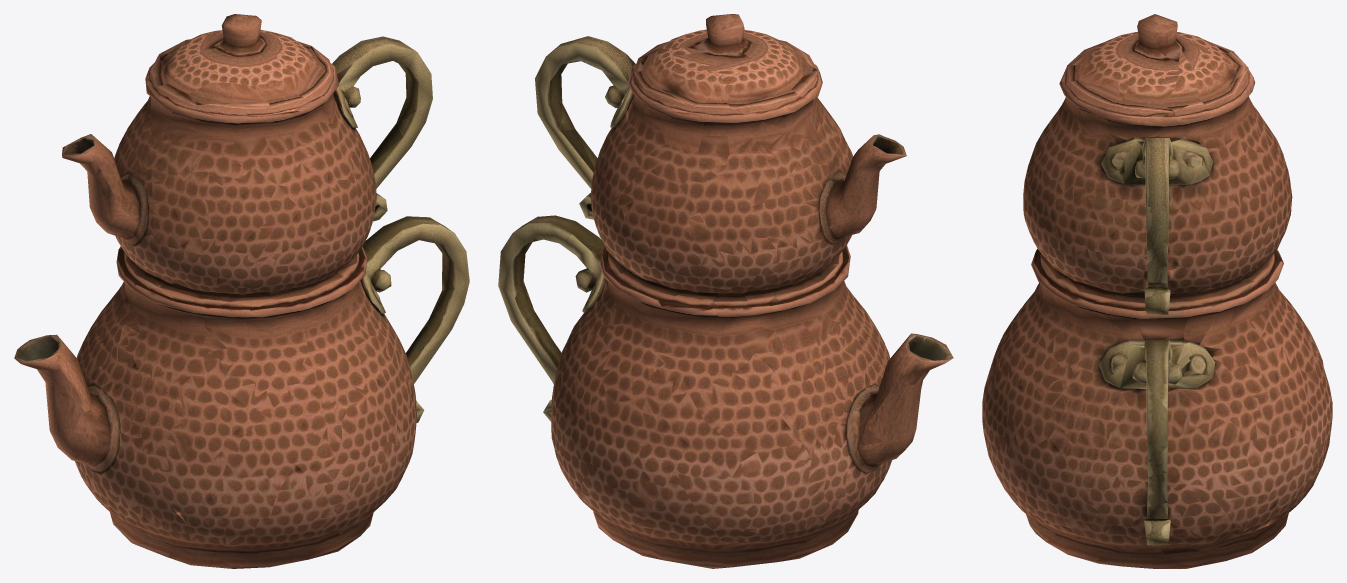
The model's file is teapot.glb.
The picture shows the model from 3 angles, left to right: view 1: azimuth 30°, elevation 25°; view 2: azimuth 150°, elevation 25°; view 3: azimuth 270°, elevation 25°; orthographic projection.
Visible parts, largest first — view 1: Mesh_0; view 2: Mesh_0; view 3: Mesh_0.
Part boxes in pixels (x1=…): Mesh_0: x1=14, y1=14, x2=469, y2=568; Mesh_0: x1=498, y1=14, x2=953, y2=568; Mesh_0: x1=982, y1=14, x2=1332, y2=568.
Size of the model in its own units: 0.2801 by 0.3005 by 0.1904.
1 material, 1 textured.
